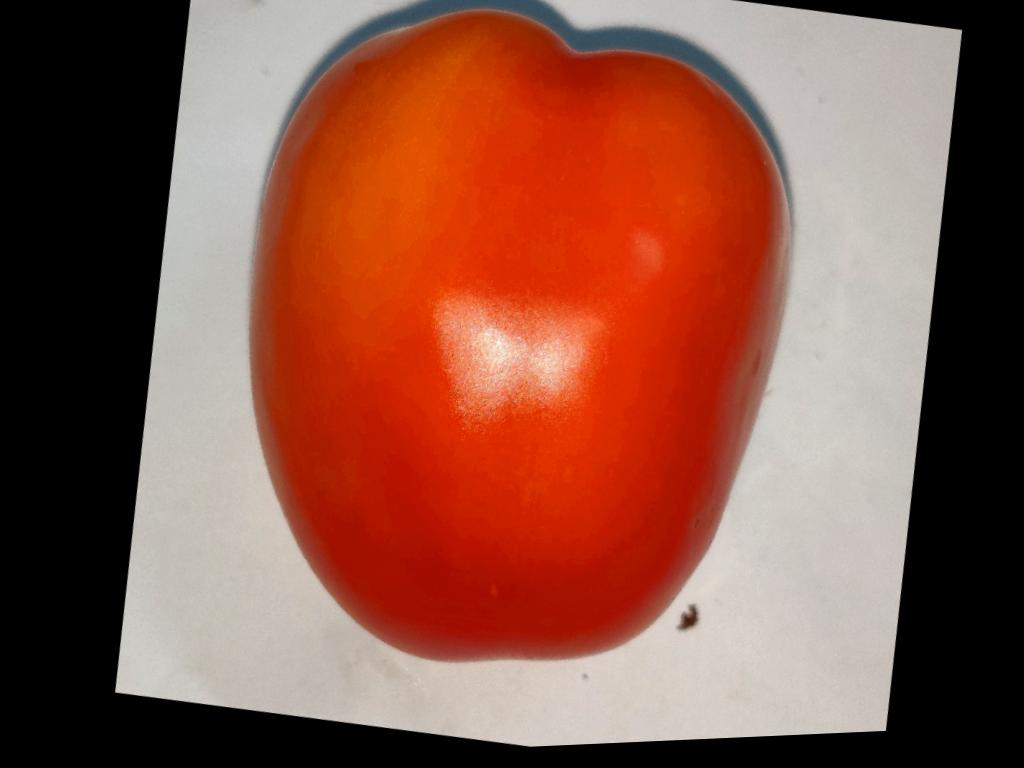tomato: (250, 10, 788, 661)
